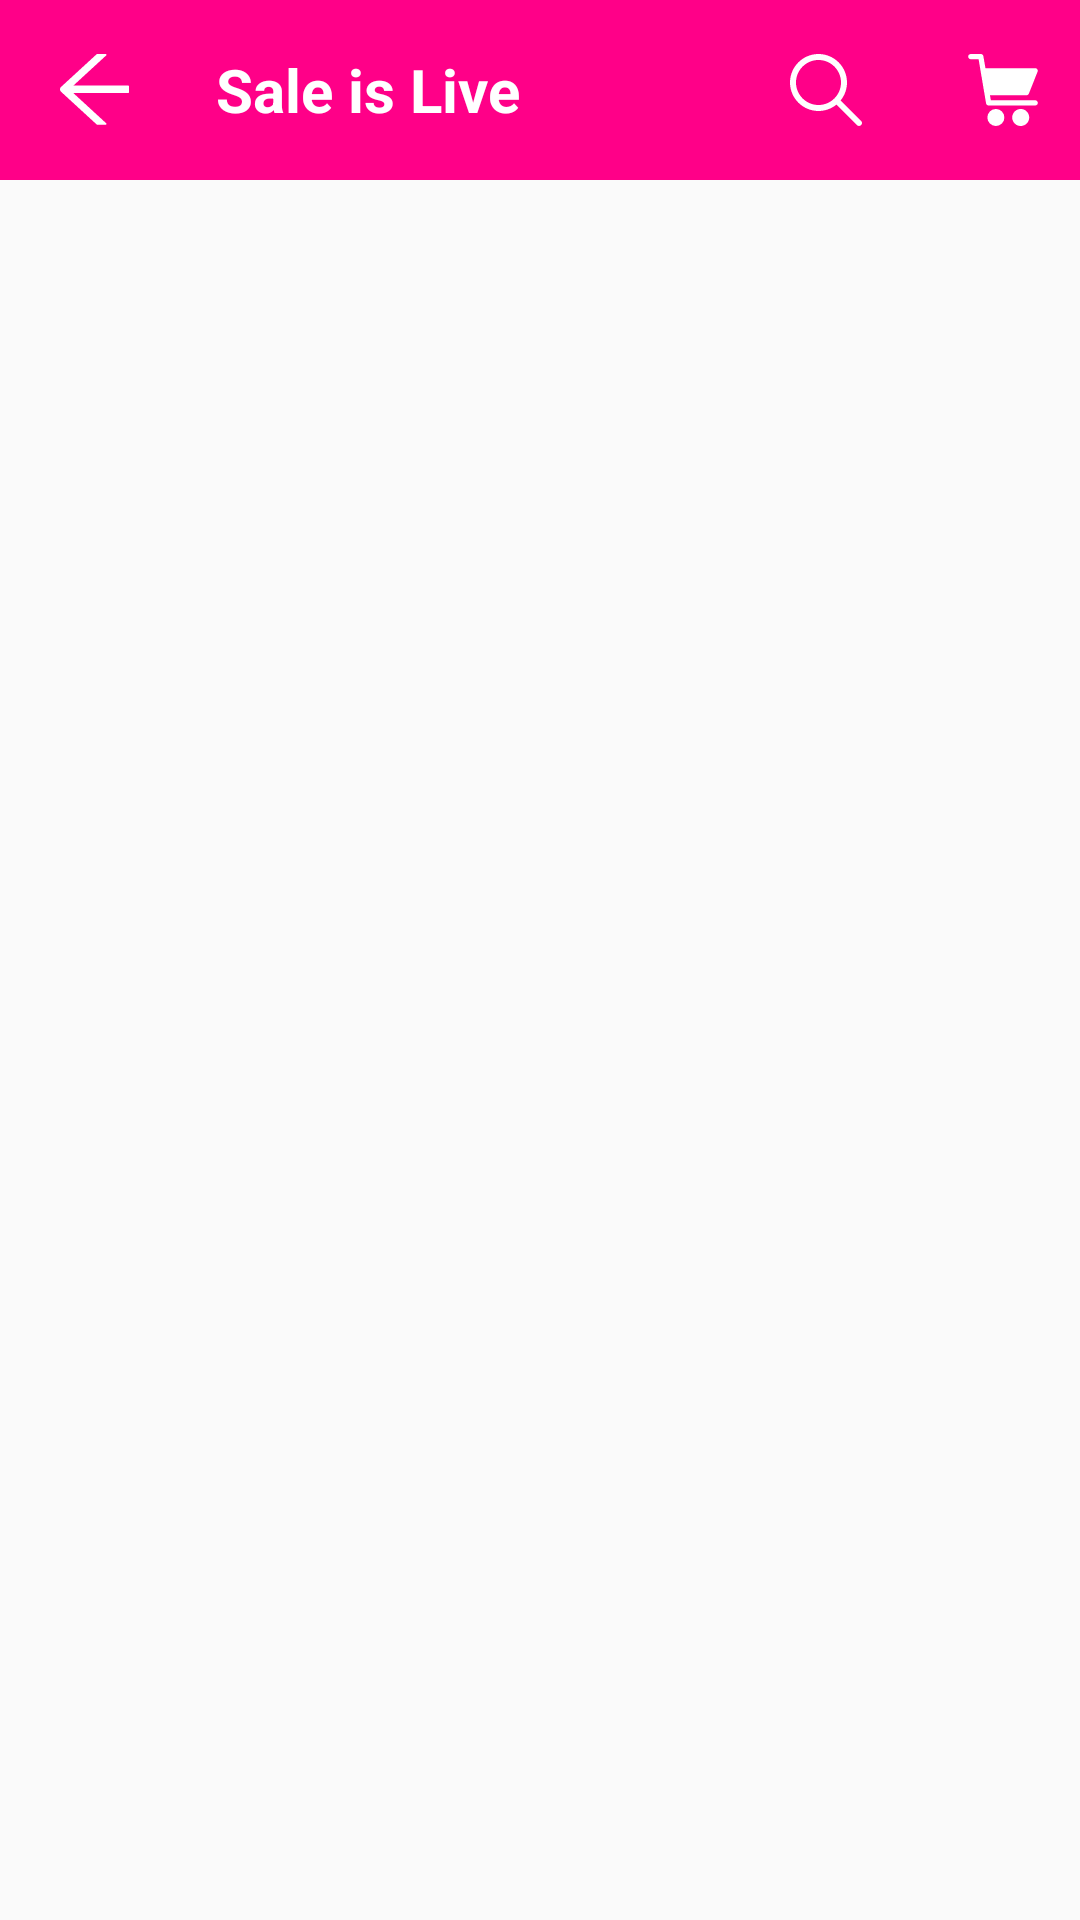

Screen size 1080 × 1920. Icon name, then its box in pixels as (x1, y1, x2, y2):
loupe: (790, 54, 862, 126)
shopping cart: (968, 54, 1038, 126)
